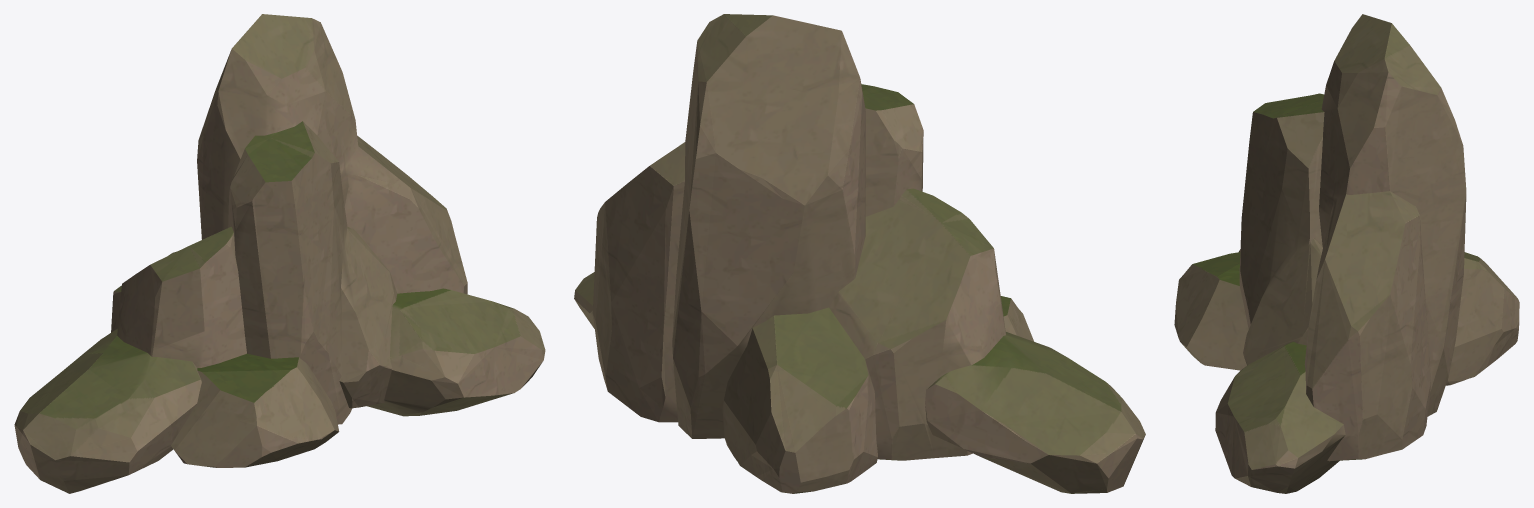
The model's file is SM_Env_Rock_Pile_07.glb.
The picture shows the model from 3 angles, left to right: view 1: azimuth 30°, elevation 25°; view 2: azimuth 150°, elevation 25°; view 3: azimuth 270°, elevation 25°; orthographic projection. The views are drawn at different scales.
Visible parts, largest first — view 1: SM_Env_Rock_Pile_07; view 2: SM_Env_Rock_Pile_07; view 3: SM_Env_Rock_Pile_07.
Part boxes in pixels (bbox=[...]): SM_Env_Rock_Pile_07: bbox=[14, 14, 545, 493]; SM_Env_Rock_Pile_07: bbox=[574, 14, 1145, 493]; SM_Env_Rock_Pile_07: bbox=[1174, 14, 1519, 493].
Bounding box in the file's own units: 9.92 × 7.36 × 5.89.
Materials: 1 (1 with a texture image).
